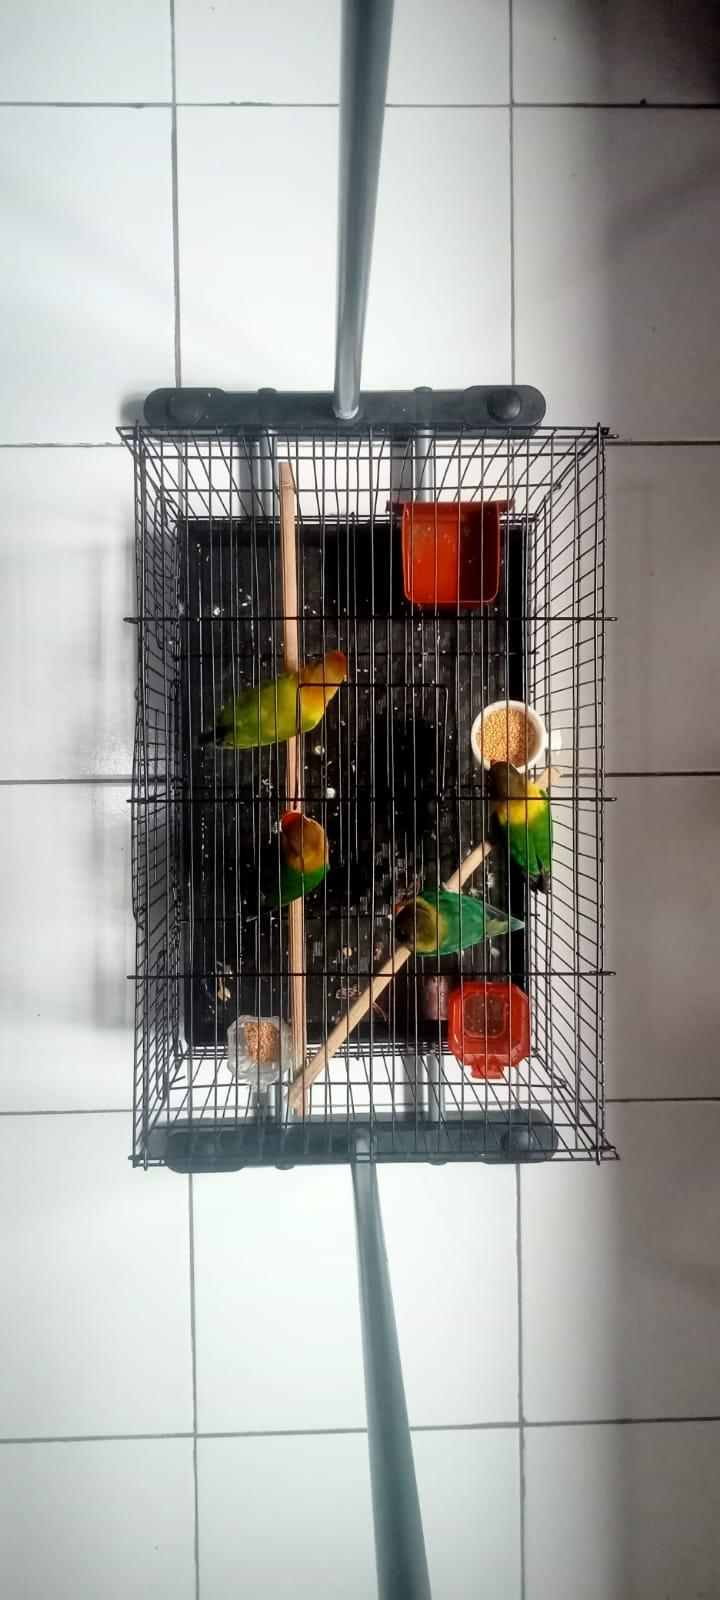LoveBird: (196, 649, 348, 750), (245, 809, 328, 923), (485, 758, 555, 895), (390, 891, 526, 958)
